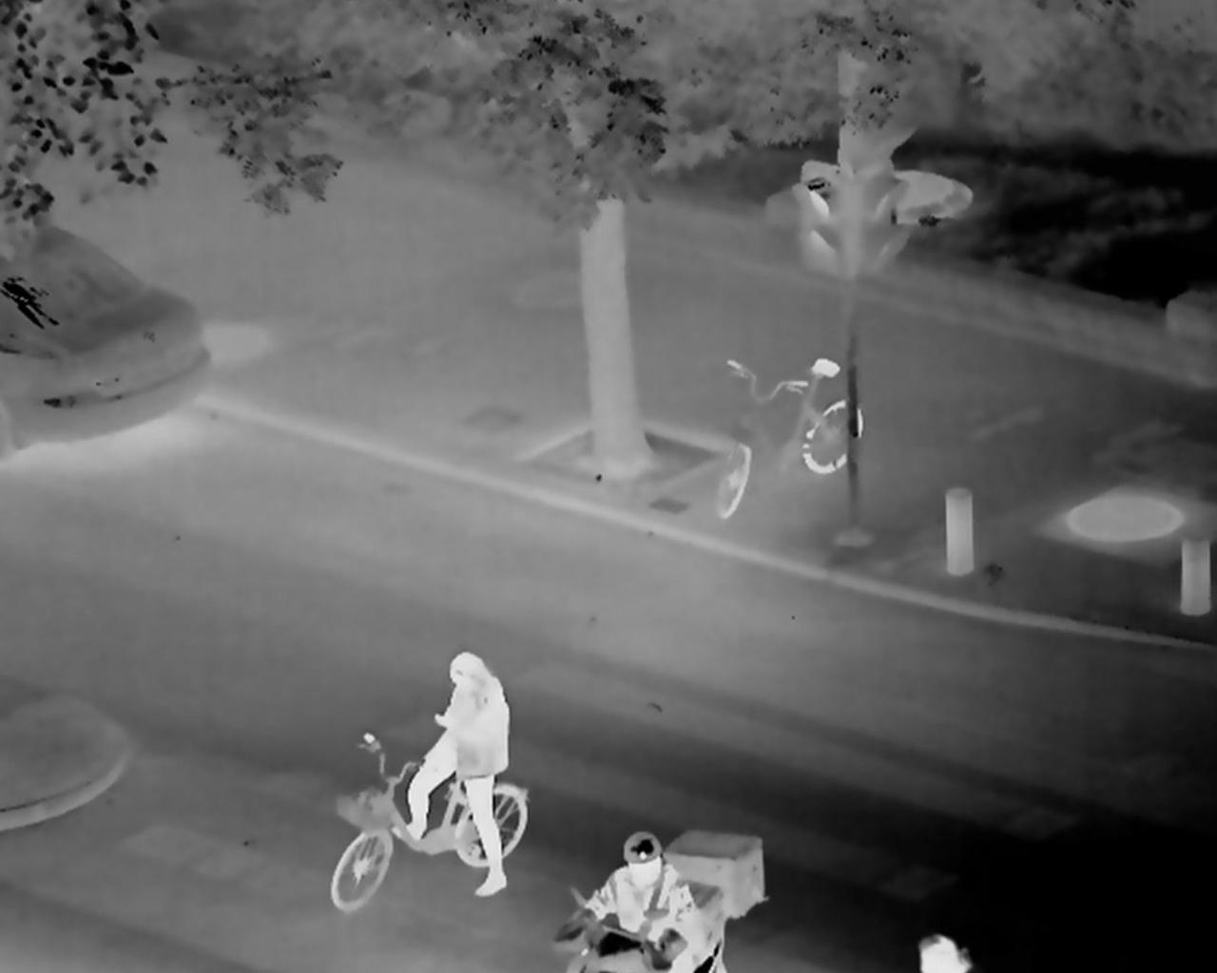person: (396, 651, 515, 900), (580, 831, 705, 973), (909, 933, 964, 973)
